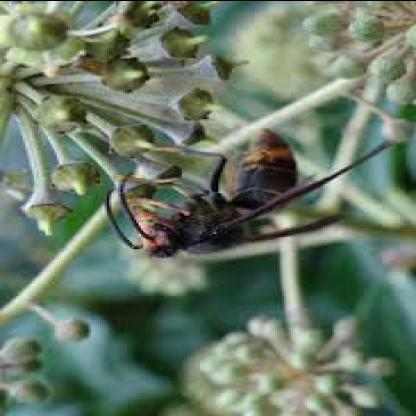asian: (100, 122, 366, 268)
